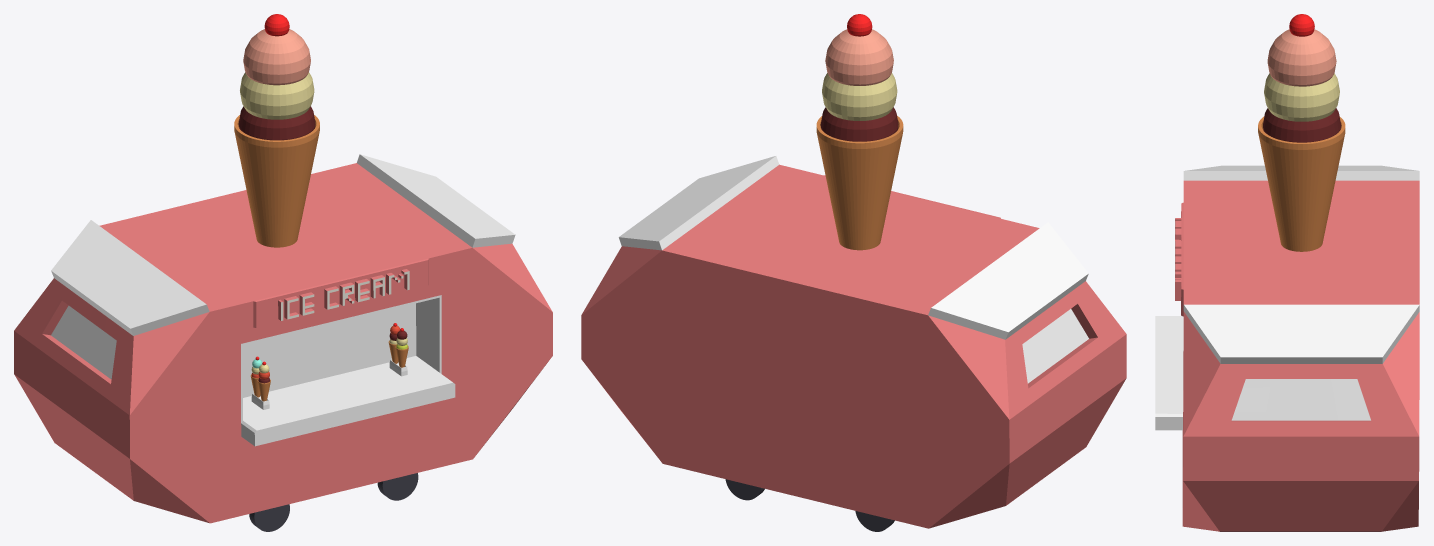
The model's file is icecream2.glb.
3 renders of one model, left to right at view 1: azimuth 30°, elevation 25°; view 2: azimuth 150°, elevation 25°; view 3: azimuth 270°, elevation 25°, orthographic.
Parts seen in each view (by area): view 1: Cube; view 2: Cube; view 3: Cube.
Boxes of the visible parts, box(x1,y1,x2,y2) form: Cube: box(14, 14, 552, 531); Cube: box(581, 14, 1126, 531); Cube: box(1155, 14, 1419, 531).
Size of the model in its own units: 19.95 by 20.99 by 10.6.
Materials: 1 (1 with a texture image).
